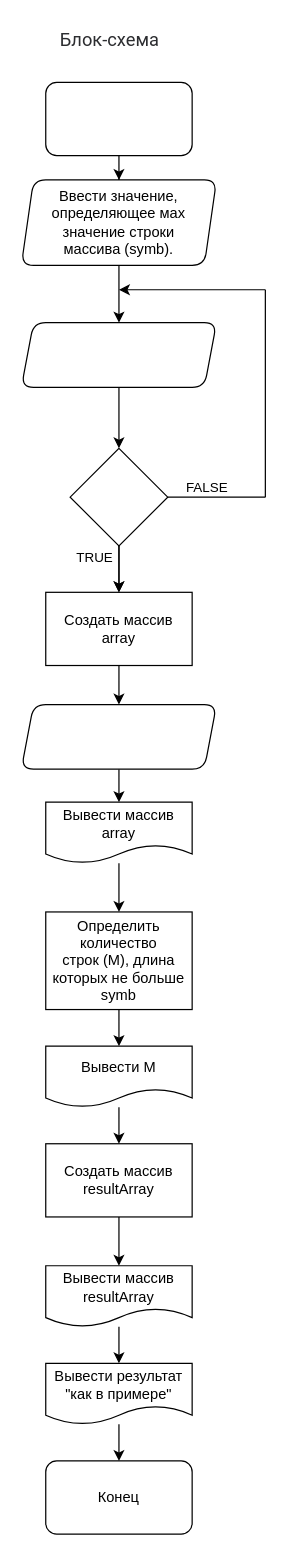
This 296x1556 diagram has some shape labels left out. The centre of each missing label's shape, as x and y in pixels:
"N>0?" belongs at (x=118, y=496).
"Вести количество строк массива (N)." belongs at (x=118, y=354).
"Заполнить массив array" belongs at (x=118, y=736).
"Старт" belongs at (x=118, y=118).
